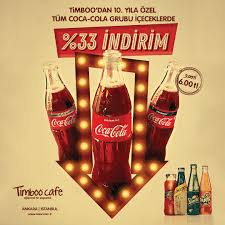coke: (84, 49, 143, 193)
